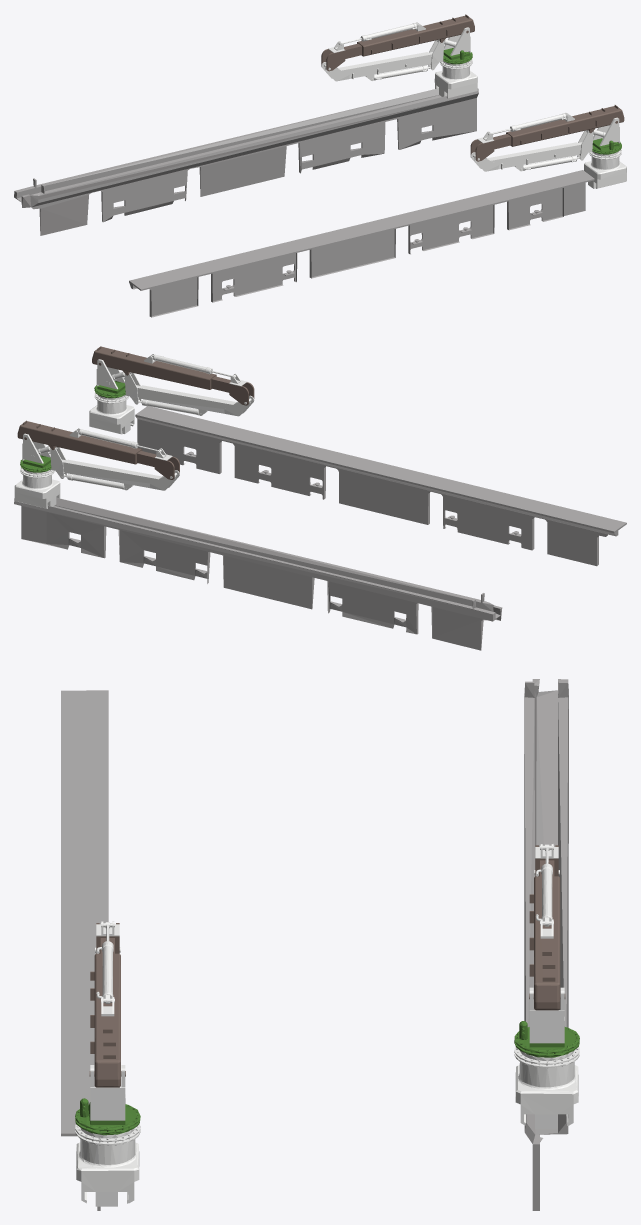
File: havyard_deck_sides.dae
3 renders of one model, top to bottom at view 1: azimuth 30°, elevation 25°; view 2: azimuth 150°, elevation 25°; view 3: azimuth 270°, elevation 25°, orthographic. The views are drawn at different scales.
Parts seen in each view (by area): view 1: node124.004, node125.004, node34.005, node96.004, node121.004, node59.004, node122.004, node60.004, node5.005, node67.004, node15.005, node77.004; view 2: node125.004, node124.004, node34.005, node96.004, node59.004, node121.004, node60.004, node122.004, node5.005, node67.004, node77.004, node15.005; view 3: node125.004, node124.004, node122.004, node60.004, node96.004, node34.005, node35.005, node97.004, node3.005, node65.004, node15.005, node77.004.
Part boxes in pixels (left/top/right/bottom): node124.004: left=14, top=88, right=478, bottom=235; node125.004: left=129, top=170, right=594, bottom=317; node34.005: left=506, top=105, right=624, bottom=146; node96.004: left=357, top=14, right=474, bottom=56; node121.004: left=321, top=40, right=444, bottom=81; node59.004: left=470, top=130, right=593, bottom=171; node122.004: left=434, top=59, right=477, bottom=98; node60.004: left=584, top=149, right=626, bottom=188; node5.005: left=470, top=134, right=511, bottom=161; node67.004: left=321, top=43, right=361, bottom=71; node15.005: left=483, top=112, right=574, bottom=140; node77.004: left=334, top=22, right=425, bottom=50; node125.004: left=135, top=406, right=626, bottom=566; node124.004: left=14, top=497, right=502, bottom=650; node34.005: left=92, top=346, right=216, bottom=389; node96.004: left=17, top=420, right=142, bottom=464; node59.004: left=124, top=372, right=254, bottom=416; node121.004: left=50, top=447, right=179, bottom=490; node60.004: left=89, top=392, right=134, bottom=434; node122.004: left=14, top=467, right=60, bottom=508; node5.005: left=211, top=376, right=254, bottom=405; node67.004: left=137, top=451, right=179, bottom=479; node77.004: left=69, top=428, right=166, bottom=458; node15.005: left=144, top=354, right=240, bottom=383; node125.004: left=61, top=690, right=108, bottom=1210; node124.004: left=524, top=679, right=568, bottom=1210; node122.004: left=514, top=1046, right=579, bottom=1129; node60.004: left=75, top=1124, right=140, bottom=1206; node96.004: left=529, top=876, right=565, bottom=1010; node34.005: left=89, top=953, right=125, bottom=1087; node35.005: left=75, top=1098, right=140, bottom=1135; node97.004: left=514, top=1021, right=579, bottom=1057; node3.005: left=90, top=1087, right=125, bottom=1120; node65.004: left=529, top=1010, right=564, bottom=1043; node15.005: left=96, top=921, right=114, bottom=1016; node77.004: left=535, top=843, right=553, bottom=938.
Size of the model in its own units: 0.7677 by 0.3503 by 0.1781.
